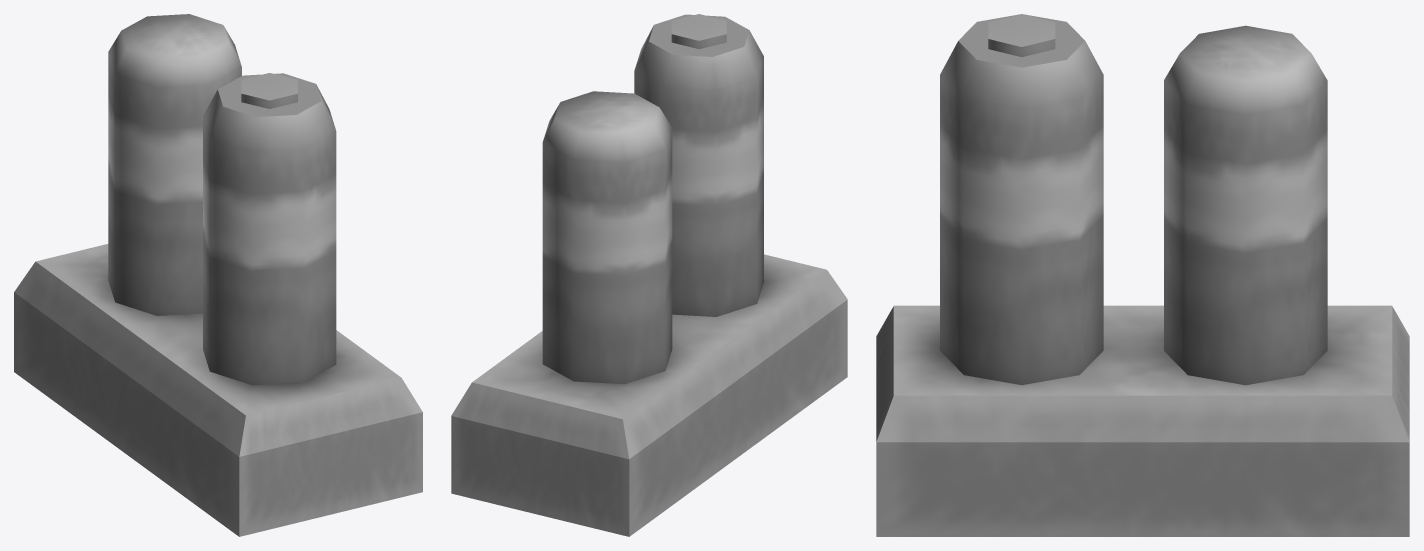
3 renders of one model, left to right at view 1: azimuth 30°, elevation 25°; view 2: azimuth 150°, elevation 25°; view 3: azimuth 270°, elevation 25°, orthographic. The views are drawn at different scales.
Parts seen in each view (by area): view 1: KD2Antenna_Base, Antenna_Holder, Antenna_Nub, Antenna_Whip; view 2: KD2Antenna_Base, Antenna_Nub, Antenna_Holder, Antenna_Whip; view 3: KD2Antenna_Base, Antenna_Nub, Antenna_Holder, Antenna_Whip.
Part boxes in pixels (x1,y1,x2,y2): KD2Antenna_Base: (14,244,422,536); Antenna_Holder: (203,73,336,385); Antenna_Nub: (108,14,241,315); Antenna_Whip: (241,73,297,108); KD2Antenna_Base: (451,254,847,536); Antenna_Nub: (542,91,672,384); Antenna_Holder: (634,14,763,316); Antenna_Whip: (671,14,726,48); KD2Antenna_Base: (876,305,1409,536); Antenna_Nub: (1164,25,1327,385); Antenna_Holder: (940,14,1103,385); Antenna_Whip: (988,14,1055,57).
Size of the model in its own units: 0.0415 by 0.0831 by 0.0883.
